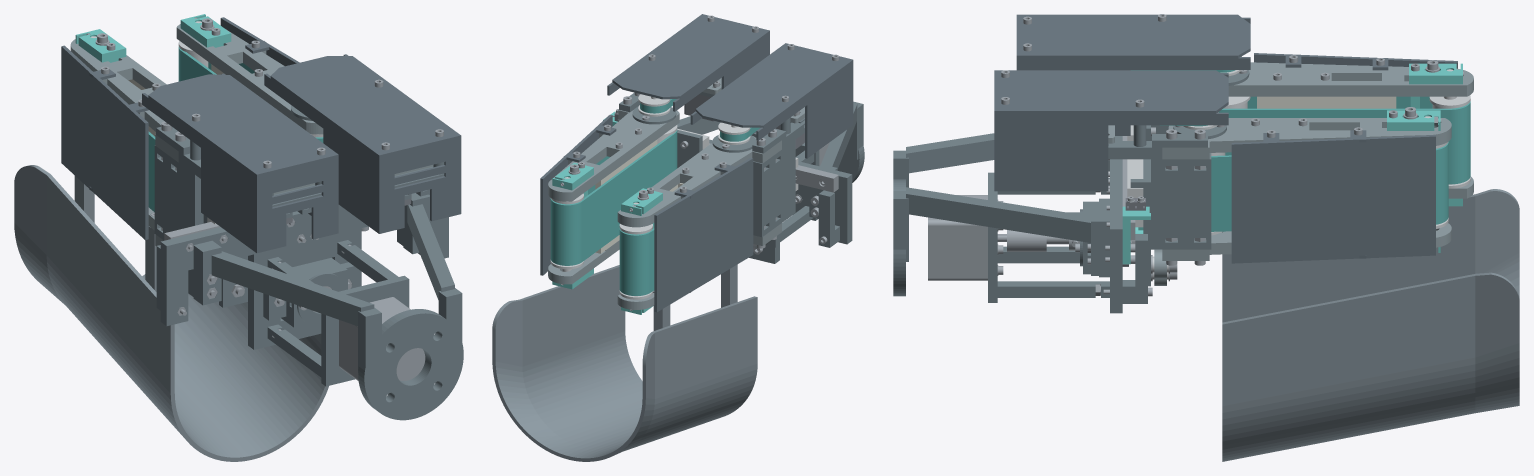
Rendered from inaho_gripper_v6_assembly.glb.
3 renders of one model, left to right at view 1: azimuth 30°, elevation 25°; view 2: azimuth 150°, elevation 25°; view 3: azimuth 270°, elevation 25°, orthographic. The views are drawn at different scales.
Parts seen in each view (by area): view 1: L_T01_deep_U_receiver, L_C14_rear_drive_cover, R_C14_rear_drive_cover, A01_rear_fixture_adapter, L_C13_outer_finger_cover, F01_rear_rail_backbone, F07_opening_motor_yoke, L_C01_carriage_saddle, R_C02_upper_deck, L_C02_upper_deck, H06_opening_motor, F04_opening_bearing_tower (+7 smaller); view 2: L_T01_deep_U_receiver, L_C14_rear_drive_cover, L_C13_outer_finger_cover, R_C14_rear_drive_cover, R_C07_contact_belt_TPU, R_C02_upper_deck, L_C01_carriage_saddle, L_C02_upper_deck, A01_rear_fixture_adapter, L_C07_contact_belt_TPU, F01_rear_rail_backbone, R_C13_outer_finger_cover (+15 smaller); view 3: L_T01_deep_U_receiver, R_C13_outer_finger_cover, R_C14_rear_drive_cover, L_C14_rear_drive_cover, A01_rear_fixture_adapter, L_C02_upper_deck, R_C01_carriage_saddle, R_C02_upper_deck, F07_opening_motor_yoke, L_C07_contact_belt_TPU, H06_opening_motor, R_C07_contact_belt_TPU (+10 smaller).
Boxes of the visible parts, left/top/right/bottom form: L_T01_deep_U_receiver: left=14, top=165, right=328, bottom=461; L_C14_rear_drive_cover: left=142, top=73, right=338, bottom=253; R_C14_rear_drive_cover: left=264, top=54, right=461, bottom=233; A01_rear_fixture_adapter: left=193, top=193, right=463, bottom=420; L_C13_outer_finger_cover: left=61, top=45, right=148, bottom=239; F01_rear_rail_backbone: left=160, top=194, right=448, bottom=349; F07_opening_motor_yoke: left=267, top=240, right=409, bottom=386; L_C01_carriage_saddle: left=154, top=145, right=247, bottom=307; R_C02_upper_deck: left=176, top=24, right=323, bottom=134; L_C02_upper_deck: left=70, top=39, right=178, bottom=162; H06_opening_motor: left=339, top=297, right=425, bottom=380; F04_opening_bearing_tower: left=263, top=257, right=357, bottom=327; L_T01_deep_U_receiver: left=492, top=264, right=757, bottom=461; L_C14_rear_drive_cover: left=690, top=43, right=853, bottom=158; L_C13_outer_finger_cover: left=654, top=157, right=753, bottom=312; R_C14_rear_drive_cover: left=607, top=14, right=769, bottom=111; R_C07_contact_belt_TPU: left=550, top=130, right=677, bottom=265; R_C02_upper_deck: left=548, top=106, right=679, bottom=201; L_C01_carriage_saddle: left=753, top=140, right=795, bottom=247; L_C02_upper_deck: left=617, top=136, right=781, bottom=227; A01_rear_fixture_adapter: left=677, top=101, right=864, bottom=182; L_C07_contact_belt_TPU: left=619, top=228, right=654, bottom=295; F01_rear_rail_backbone: left=709, top=139, right=852, bottom=263; R_C13_outer_finger_cover: left=540, top=114, right=616, bottom=275; L_T01_deep_U_receiver: left=1222, top=189, right=1519, bottom=461; R_C13_outer_finger_cover: left=1231, top=130, right=1435, bottom=263; R_C14_rear_drive_cover: left=994, top=70, right=1228, bottom=191; L_C14_rear_drive_cover: left=1016, top=14, right=1250, bottom=135; A01_rear_fixture_adapter: left=893, top=133, right=1109, bottom=296; L_C02_upper_deck: left=1228, top=62, right=1473, bottom=96; R_C01_carriage_saddle: left=1130, top=153, right=1211, bottom=286; R_C02_upper_deck: left=1162, top=118, right=1451, bottom=159; F07_opening_motor_yoke: left=988, top=172, right=1109, bottom=302; L_C07_contact_belt_TPU: left=1218, top=96, right=1470, bottom=184; H06_opening_motor: left=928, top=195, right=1006, bottom=280; R_C07_contact_belt_TPU: left=1211, top=142, right=1448, bottom=231.
Size of the model in its own units: 0.21 by 0.275 by 0.396.
